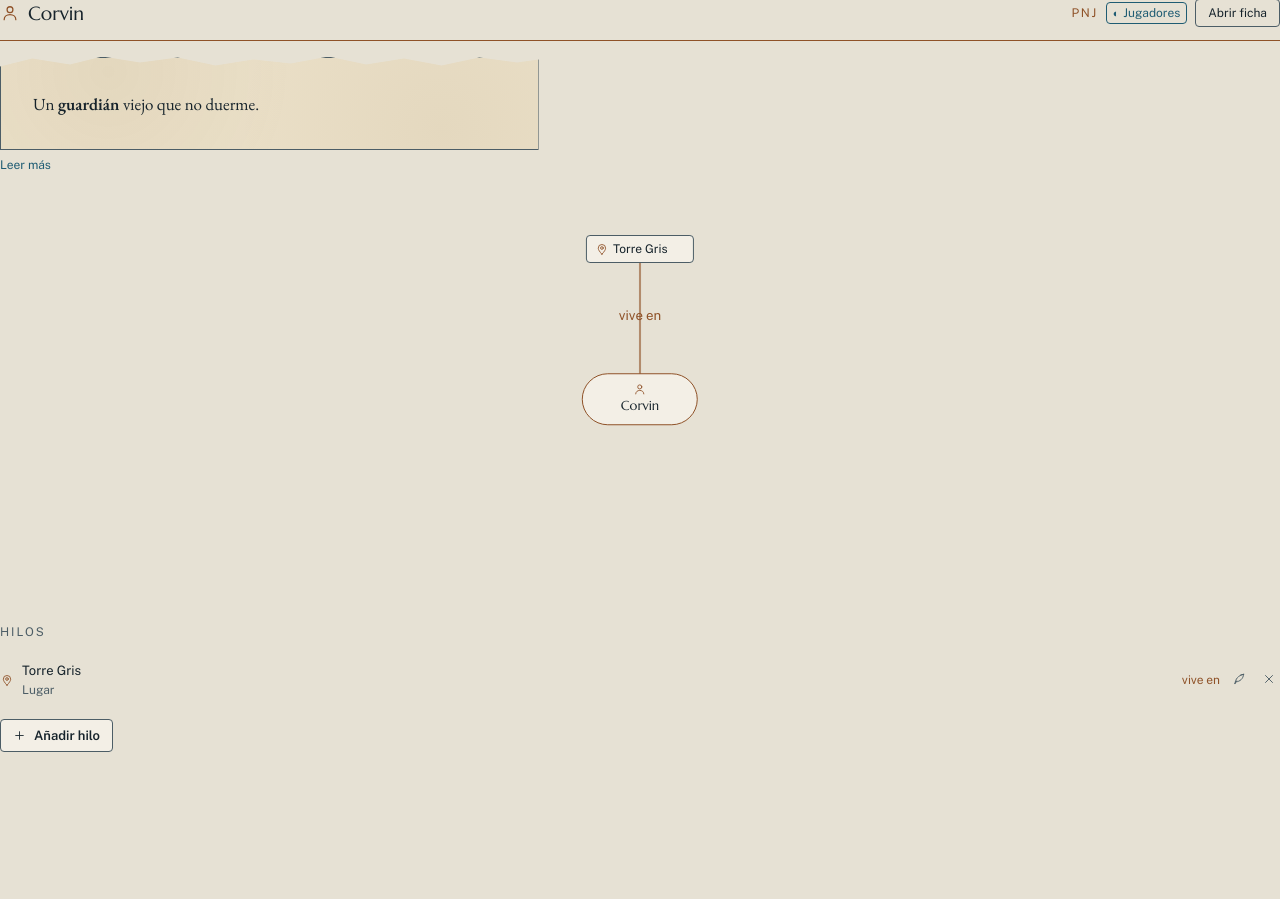
DetalleDeFicha › guardar el rótulo sin cambiarlo no manda nada
Step 1. Click the button named "Cambiar el rótulo del hilo con Torre Gris" → (1239, 680), box [1228,665,1250,694]
(page scrolled)
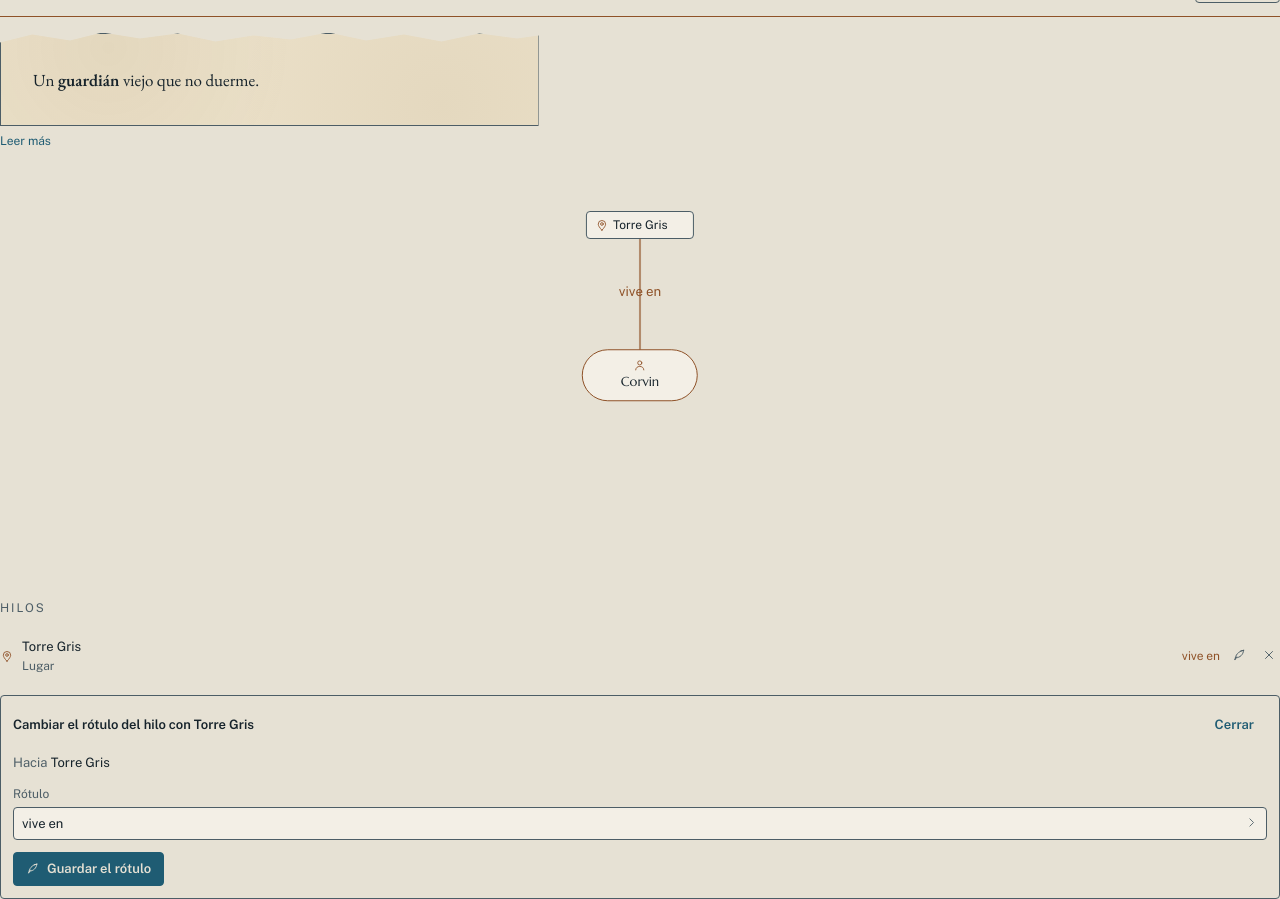
Step 2. Click the button "Guardar el rótulo" → (89, 869), box [13,852,164,886]
(page scrolled)
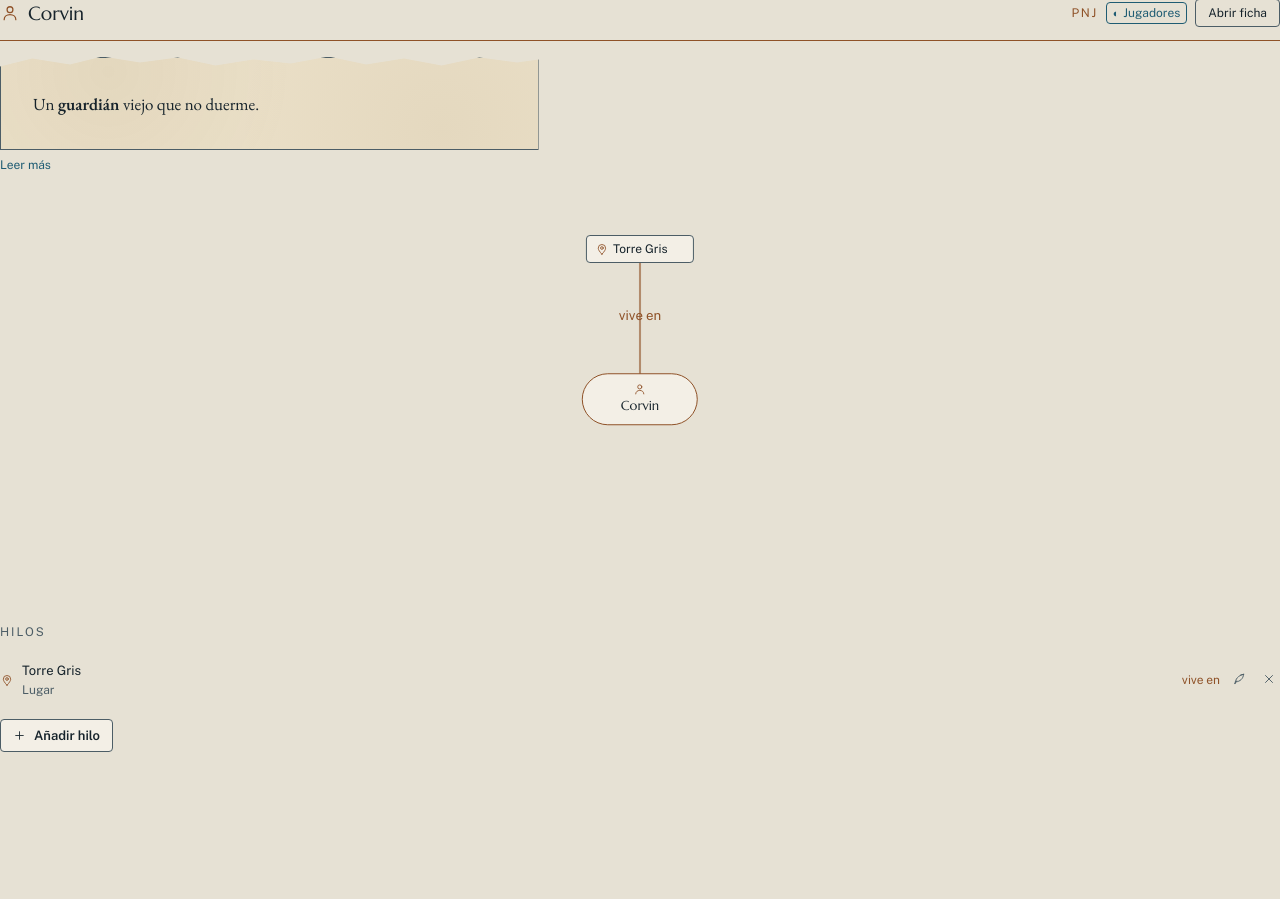
Expected: the button "Guardar el rótulo" is gone
